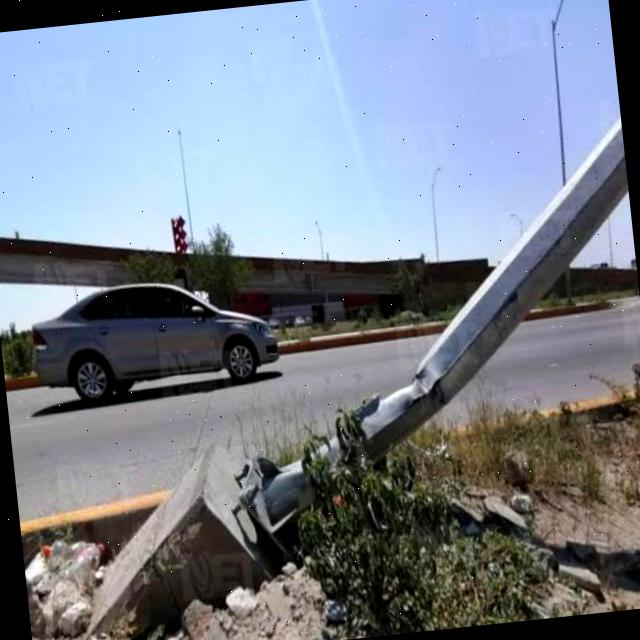Broken Pole: (39, 110, 640, 640)
